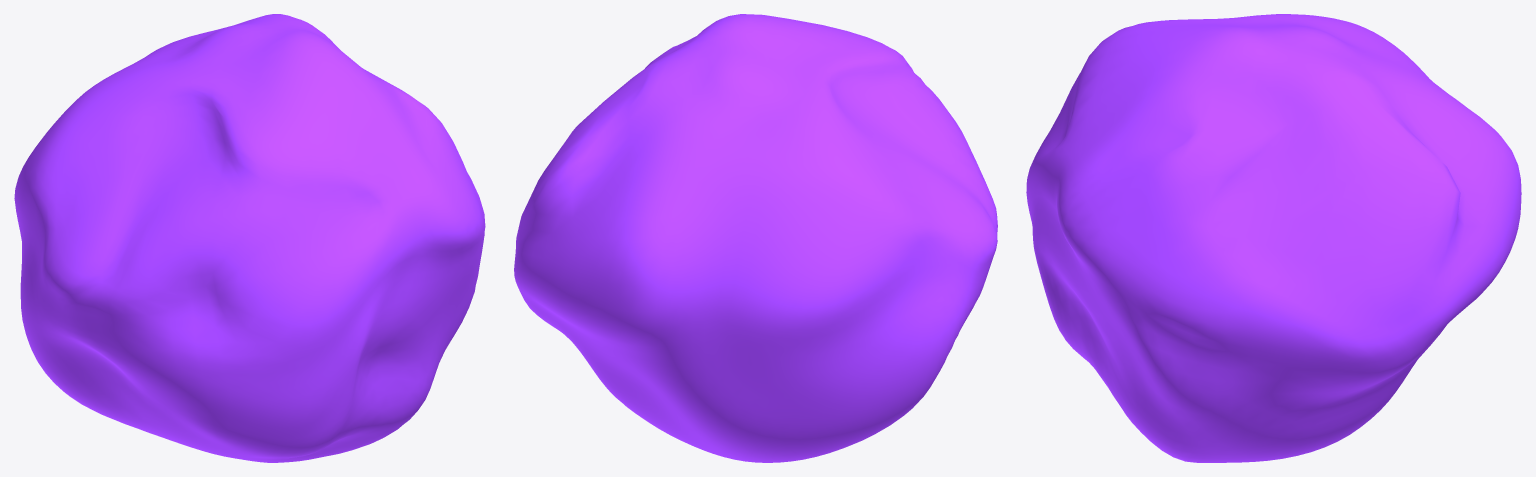
File: nucleus_selected.glb
3 renders of one model, left to right at view 1: azimuth 30°, elevation 25°; view 2: azimuth 150°, elevation 25°; view 3: azimuth 270°, elevation 25°, orthographic. The views are drawn at different scales.
Parts seen in each view (by area): view 1: Nucleus.001; view 2: Nucleus.001; view 3: Nucleus.001.
Boxes of the visible parts, box(x1,y1,x2,y2) form: Nucleus.001: box(14, 14, 485, 462); Nucleus.001: box(514, 14, 997, 462); Nucleus.001: box(1026, 14, 1521, 462).
Size of the model in its own units: 0.5324 by 0.4988 by 0.5322.
